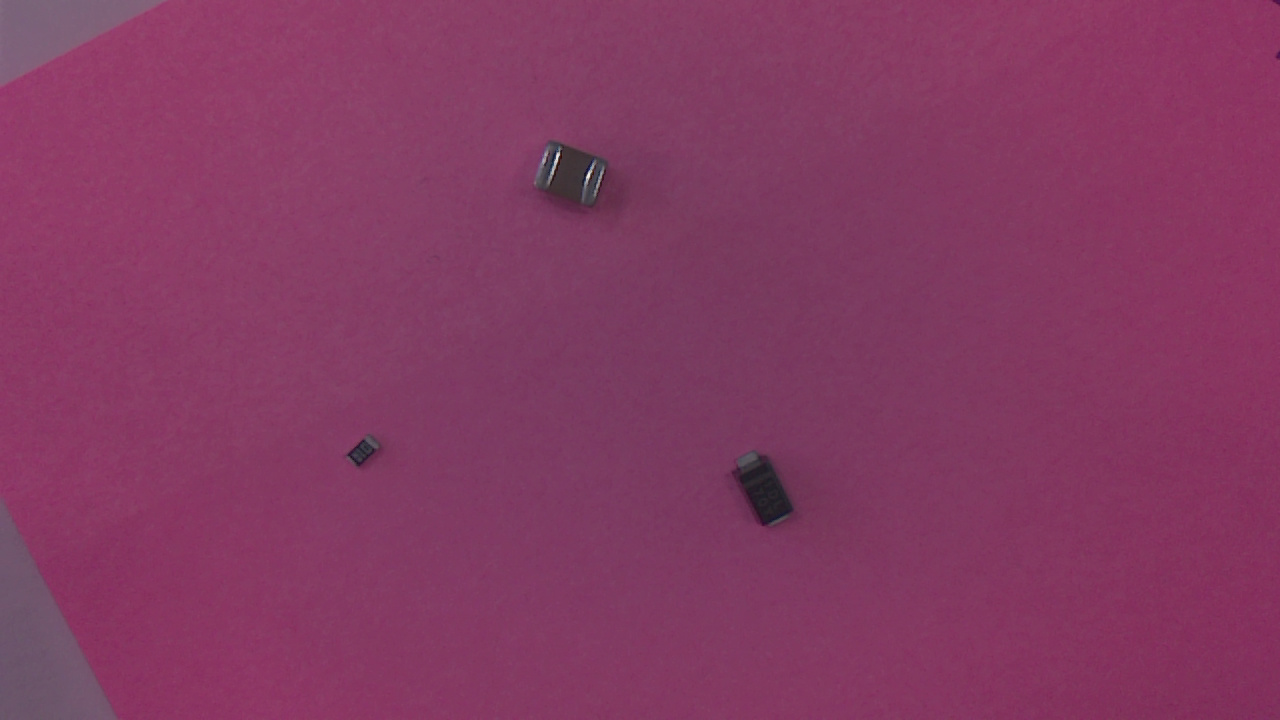Condensator: (536, 144, 619, 216)
Diode: (733, 456, 804, 534)
Resistor: (350, 435, 387, 475)
